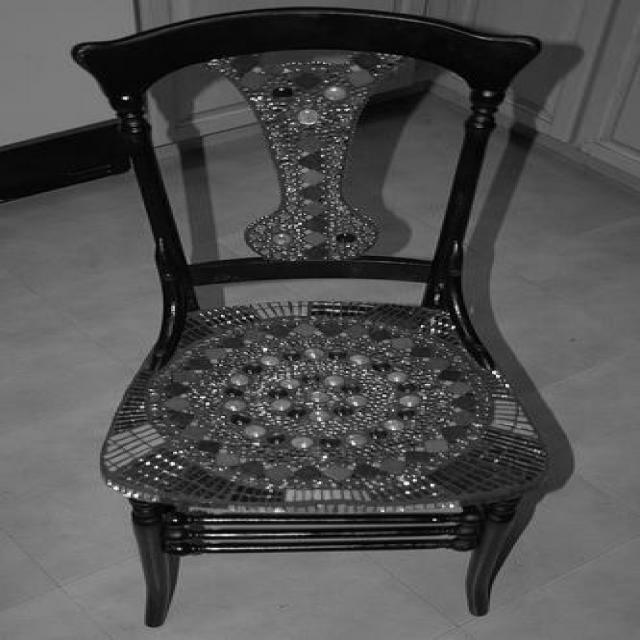chair: (58, 5, 557, 625)
